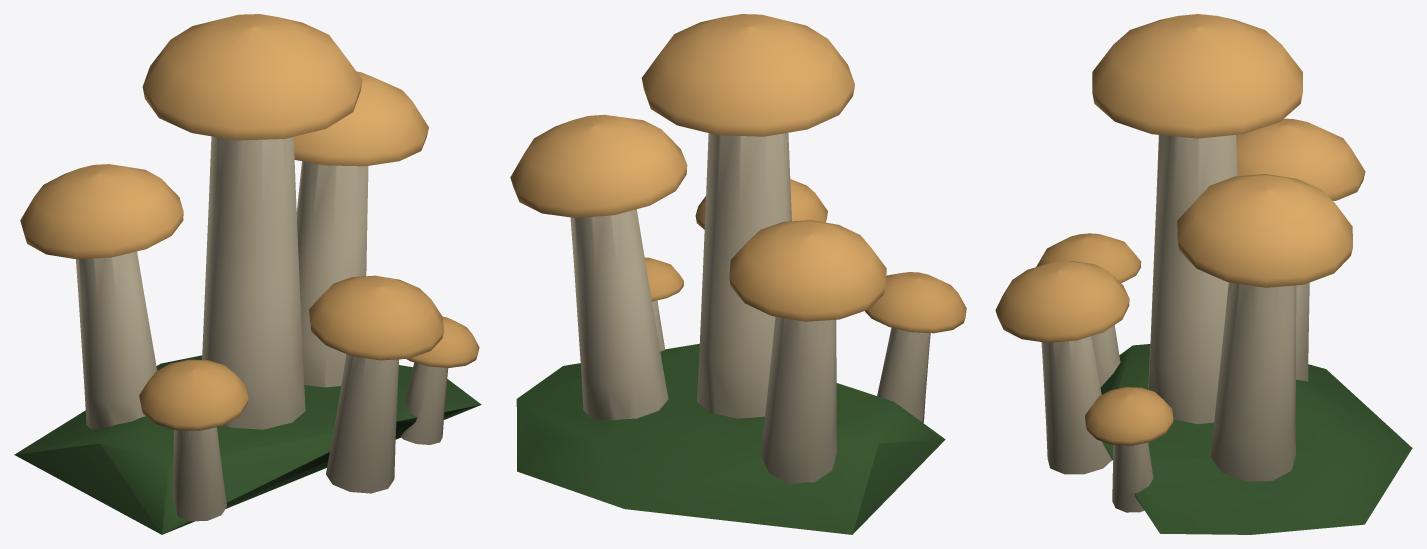
The model's file is mushrooms_tan.glb.
The picture shows the model from 3 angles, left to right: view 1: azimuth 30°, elevation 25°; view 2: azimuth 150°, elevation 25°; view 3: azimuth 270°, elevation 25°; orthographic projection. The views are drawn at different scales.
Parts seen in each view (by area): view 1: Item; view 2: Item; view 3: Item.
Part boxes in pixels (bbox=[...]): Item: bbox=[14, 14, 481, 534]; Item: bbox=[510, 14, 966, 534]; Item: bbox=[995, 14, 1412, 534].
Bounding box in the file's own units: 0.9745 × 1.04 × 0.9269.
Materials: 3 (3 with a texture image).
